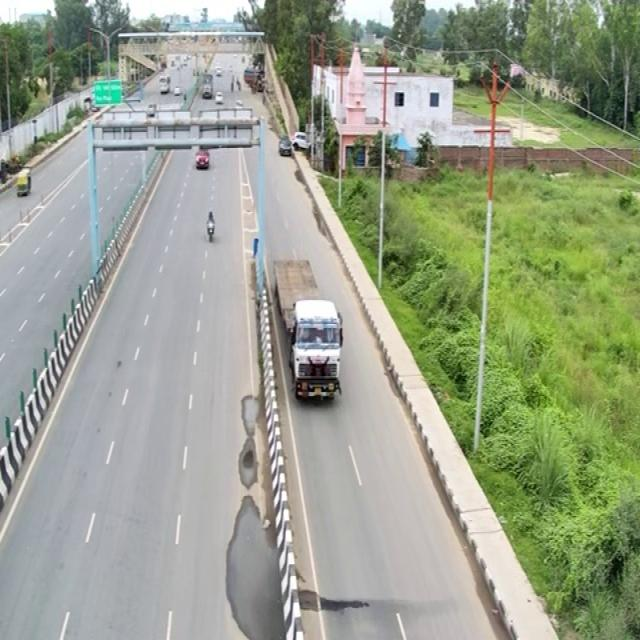car: (254, 108, 286, 129)
